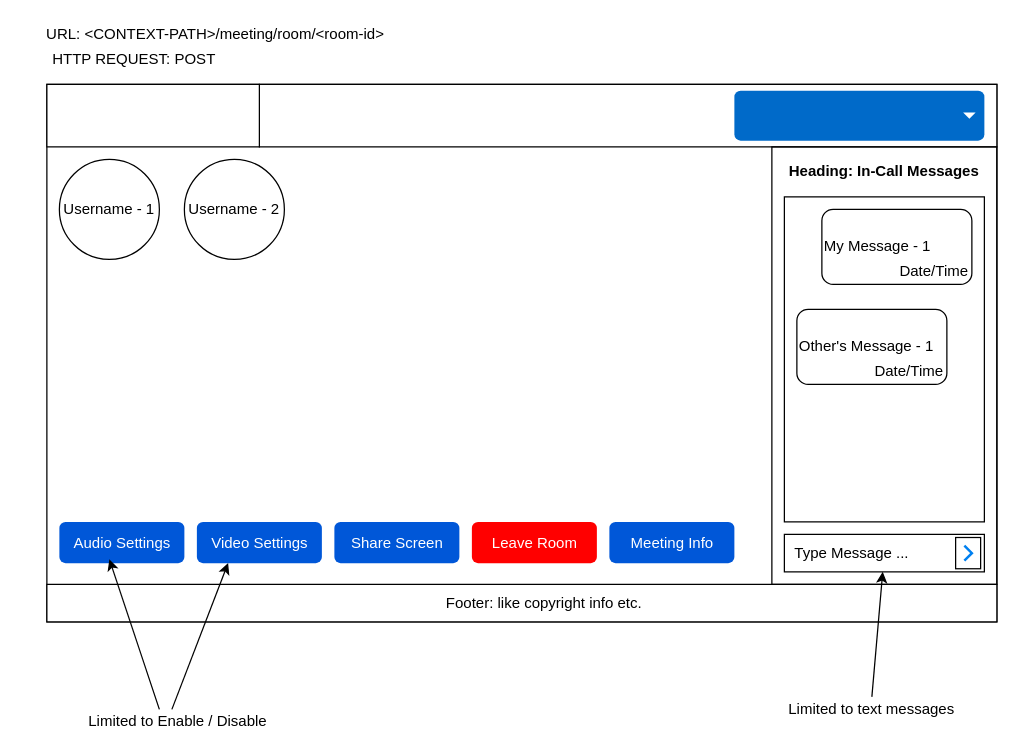
Image size: 1019x755. Some labels were removed from this diagram. The centre of each missing label's shape, as x and y in pixels:
Logo of App: point (152, 115)
User Profile Icon + Name: point (859, 115)
